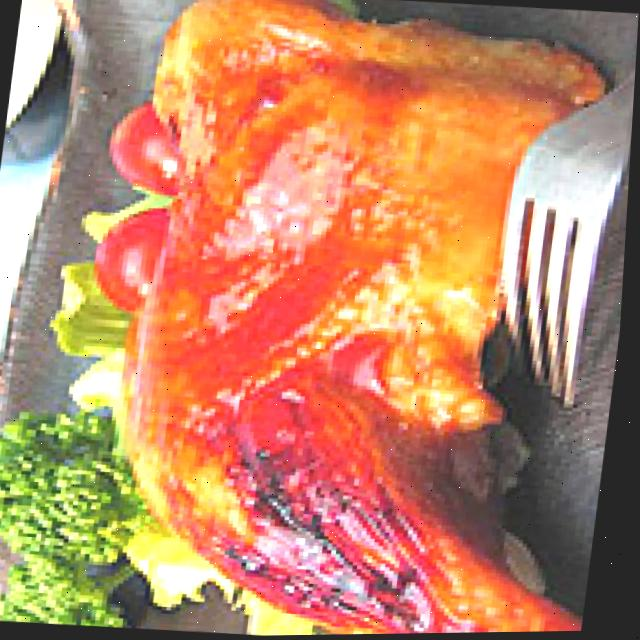鸡肉料理 含炸鸡: (73, 0, 640, 639)
